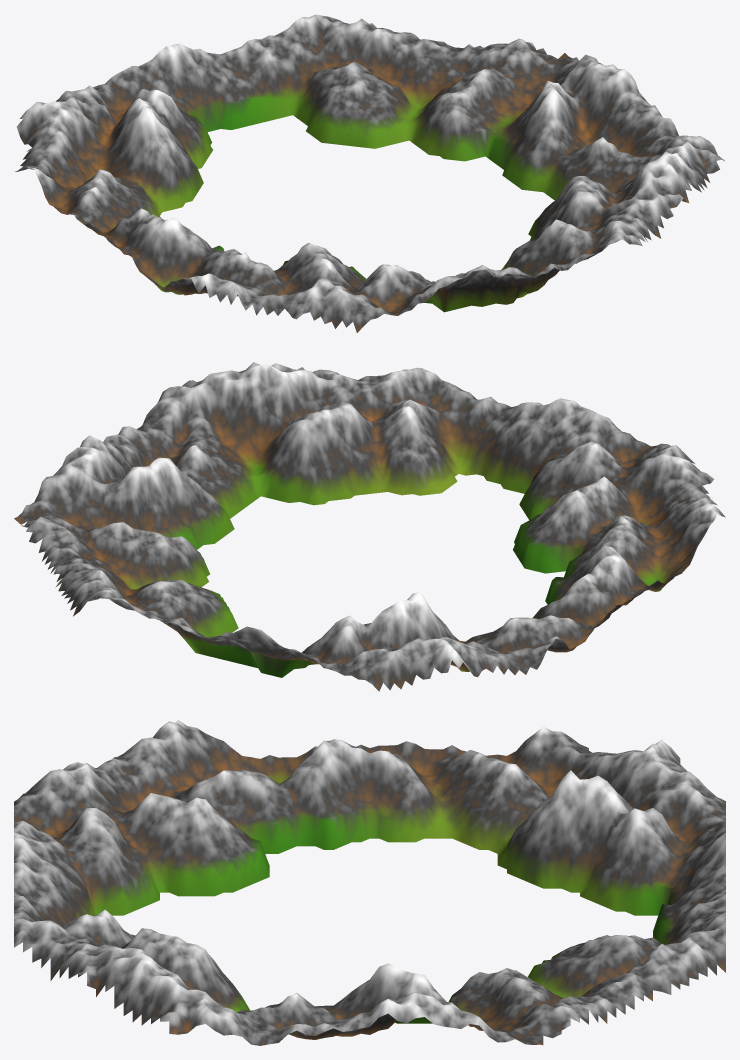
Rendered from SM_Terrain7K.fbx.
The picture shows the model from 3 angles, top to bottom: view 1: azimuth 30°, elevation 25°; view 2: azimuth 150°, elevation 25°; view 3: azimuth 270°, elevation 25°; orthographic projection. The views are drawn at different scales.
Parts seen in each view (by area): view 1: Terrain7K; view 2: Terrain7K; view 3: Terrain7K.
Part boxes in pixels (x1=…): Terrain7K: x1=15, y1=14, x2=724, y2=332; Terrain7K: x1=14, y1=362, x2=725, y2=691; Terrain7K: x1=14, y1=720, x2=725, y2=1045.
Bounding box in the file's own units: 1462 × 222 × 1462.
1 material, 1 textured.
